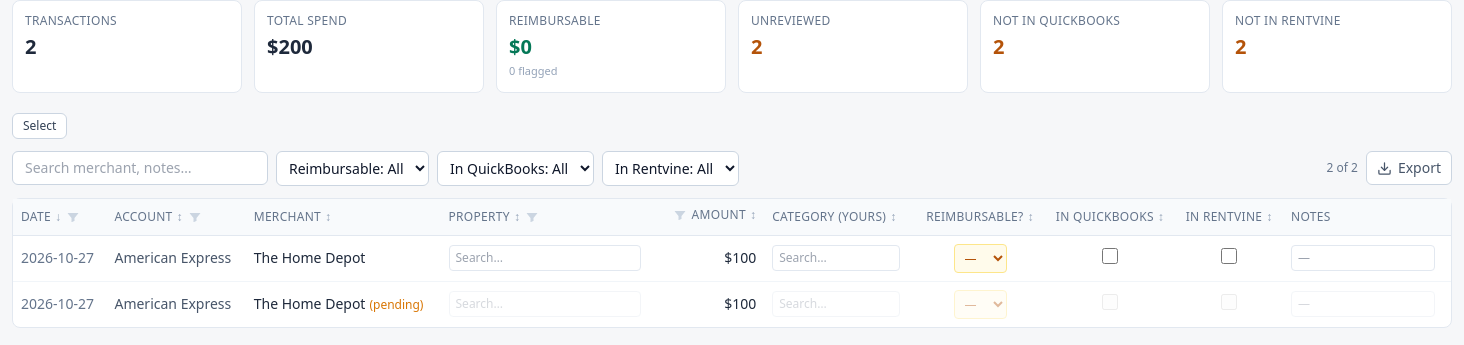
Test case: TransactionsTable › pending transactions are locked › can't be picked in bulk select
This screenshot has width=1464, height=345.
Click the button "Select" at [40, 126], box left=12, top=112, right=67, bottom=138
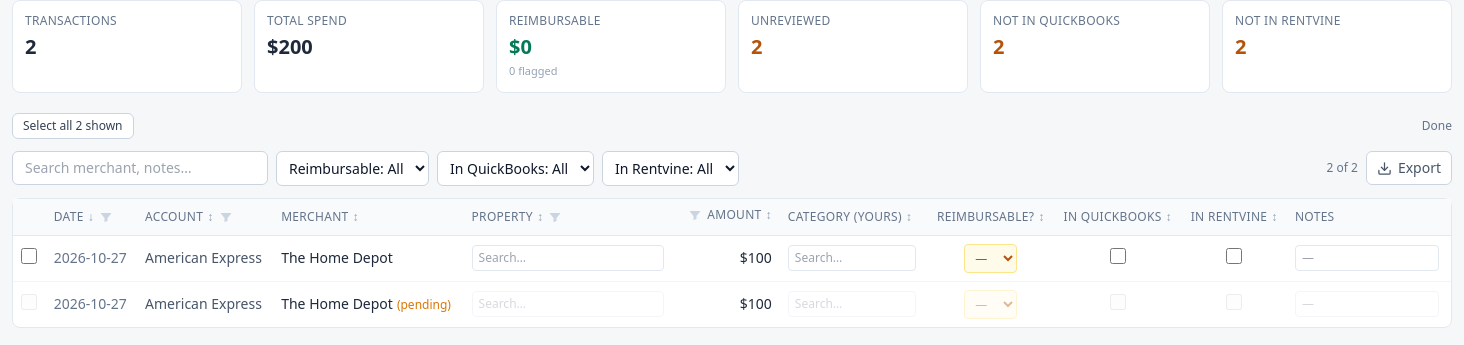
expect the checkbox named "select-t1" is enabled: met, box left=21, top=248, right=37, bottom=264
